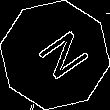N_SW: (23, 24, 87, 86)
